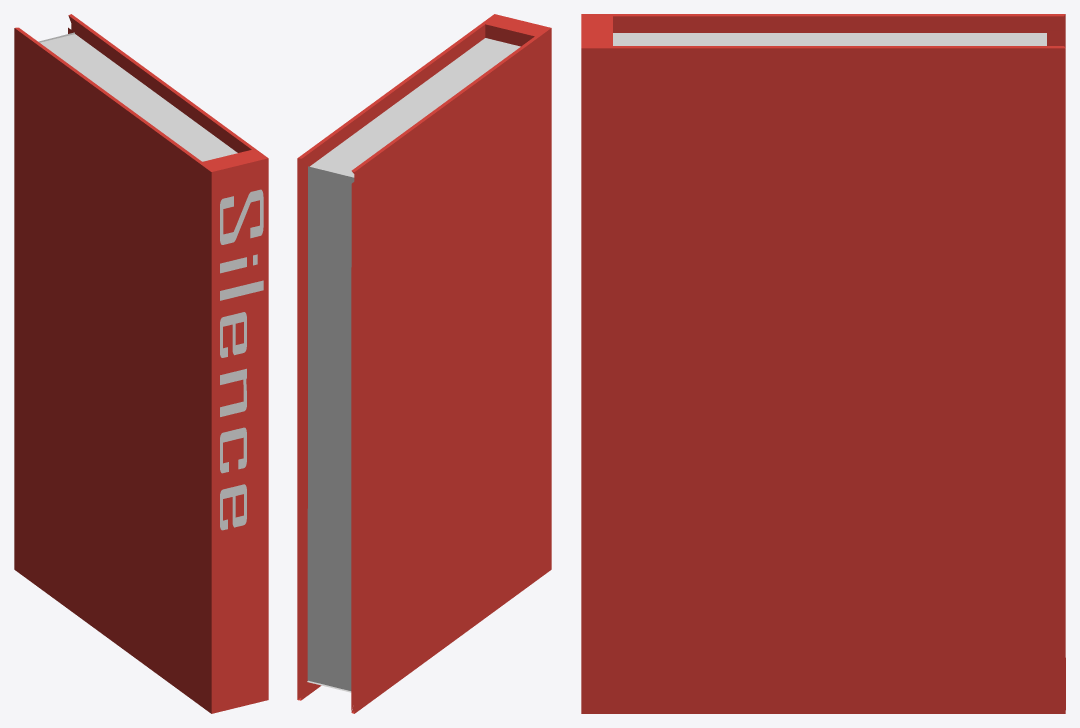
File: Book_Silence.fbx
3 renders of one model, left to right at view 1: azimuth 30°, elevation 25°; view 2: azimuth 150°, elevation 25°; view 3: azimuth 270°, elevation 25°, orthographic. The views are drawn at different scales.
Parts seen in each view (by area): view 1: Book, Text; view 2: Book; view 3: Book.
Part boxes in pixels (x1=…): Book: x1=14, y1=14, x2=268, y2=713; Text: x1=220, y1=189, x2=263, y2=530; Book: x1=297, y1=14, x2=551, y2=713; Book: x1=581, y1=14, x2=1065, y2=713.
Size of the model in its own units: 6.67 by 60.59 by 40.06.
